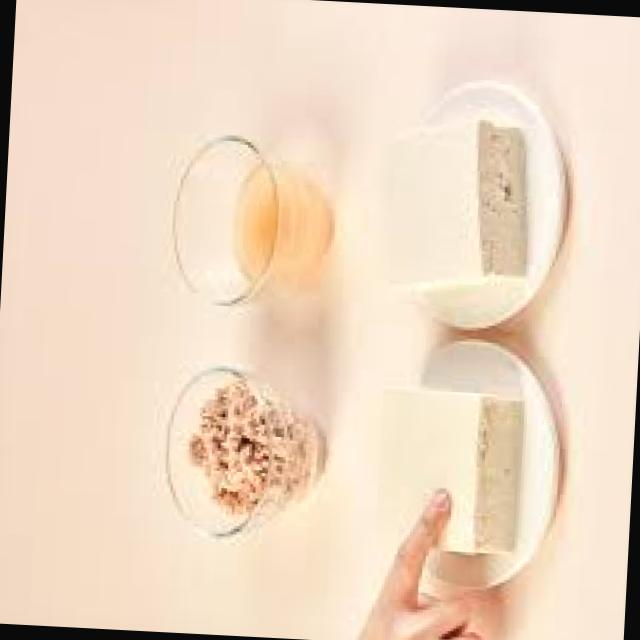tof: (363, 88, 538, 304), (349, 382, 536, 560)
